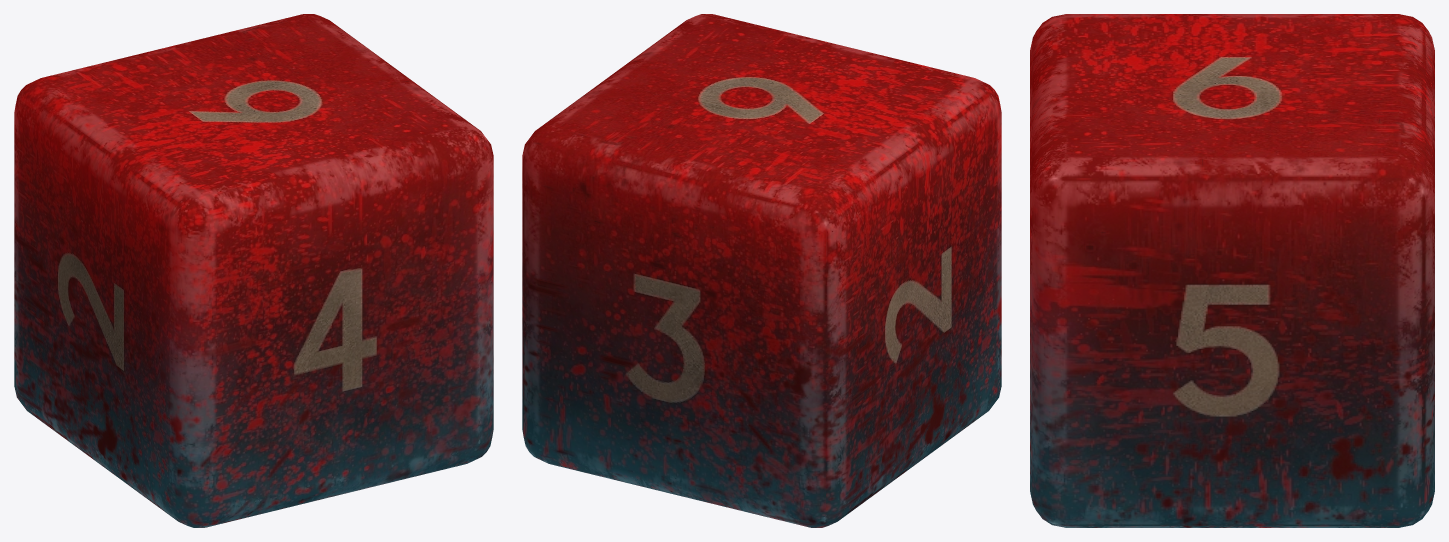
File: TPK_d6.gltf
3 views of the same model, side by side, from view 1: azimuth 30°, elevation 25°; view 2: azimuth 150°, elevation 25°; view 3: azimuth 270°, elevation 25° (orthographic). The views are drawn at different scales.
Visible parts, largest first — view 1: dice_6; view 2: dice_6; view 3: dice_6.
Part boxes in pixels (bbox=[...]): dice_6: bbox=[14, 14, 493, 527]; dice_6: bbox=[522, 14, 1001, 527]; dice_6: bbox=[1030, 14, 1434, 527].
Bounding box in the file's own units: 104 × 104 × 104.
1 material, 1 textured.
